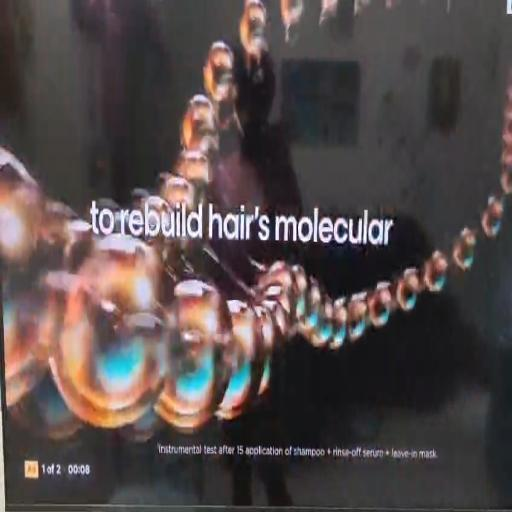ad label: (23, 456, 40, 482)
